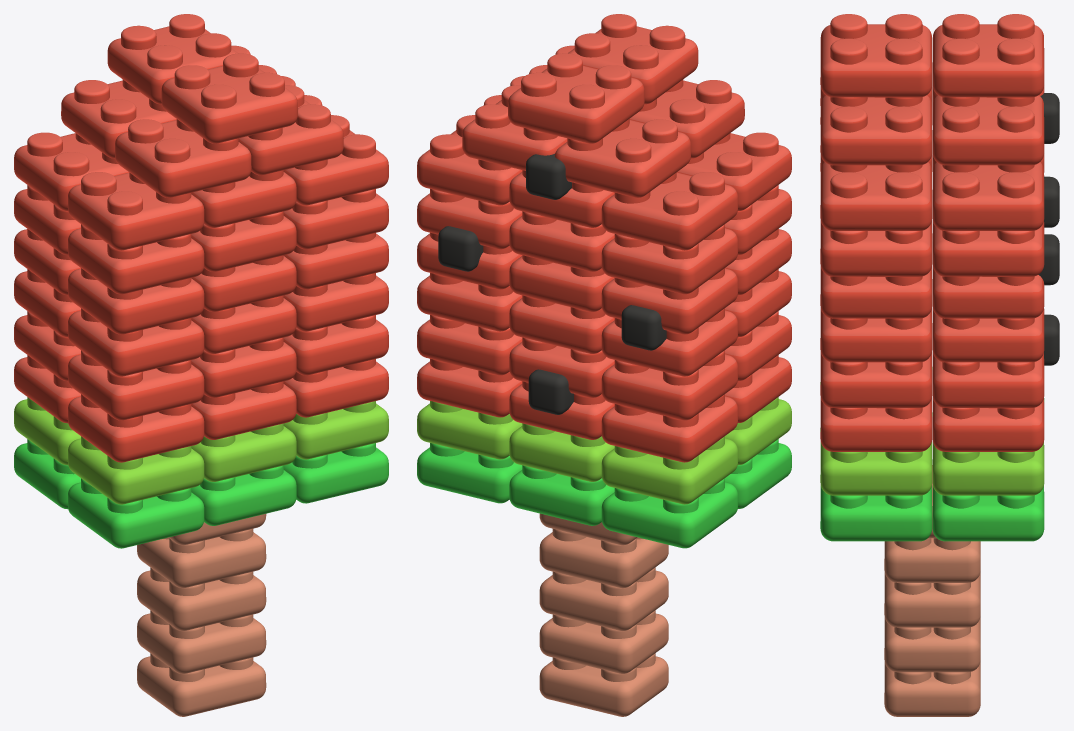
Rendered from IceCream_LV10.fbx.
3 views of the same model, side by side, from view 1: azimuth 30°, elevation 25°; view 2: azimuth 150°, elevation 25°; view 3: azimuth 270°, elevation 25° (orthographic). The views are drawn at different scales.
Parts seen in each view (by area): view 1: IceCream-LV10; view 2: IceCream-LV10; view 3: IceCream-LV10.
Boxes of the visible parts, x1,y1,x2,y2 form: IceCream-LV10: (14, 14, 388, 716); IceCream-LV10: (417, 14, 791, 716); IceCream-LV10: (820, 14, 1059, 716).
Size of the model in its own units: 589 by 1300 by 423.
Materials: 1 (1 with a texture image).
